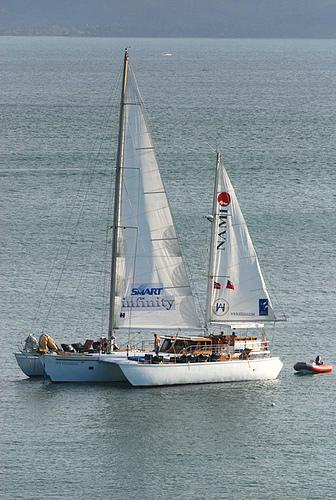Ship: (16, 50, 284, 392)
